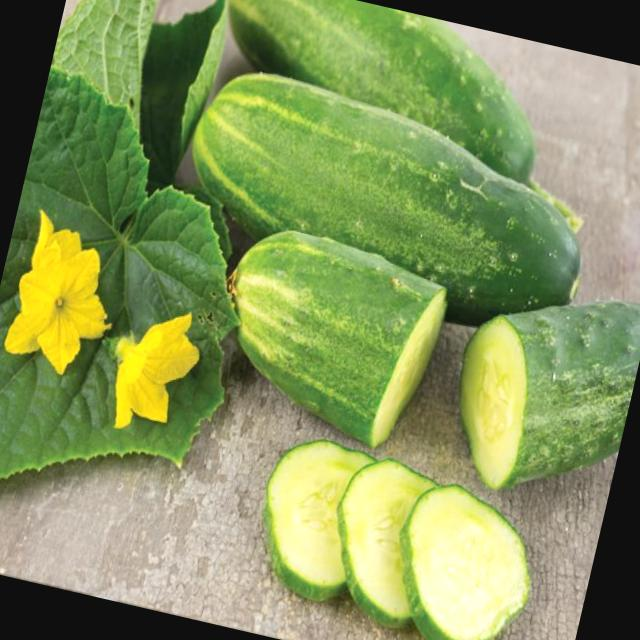Cucumber: (171, 62, 605, 339), (204, 0, 568, 187), (204, 218, 452, 451), (439, 265, 640, 514)
